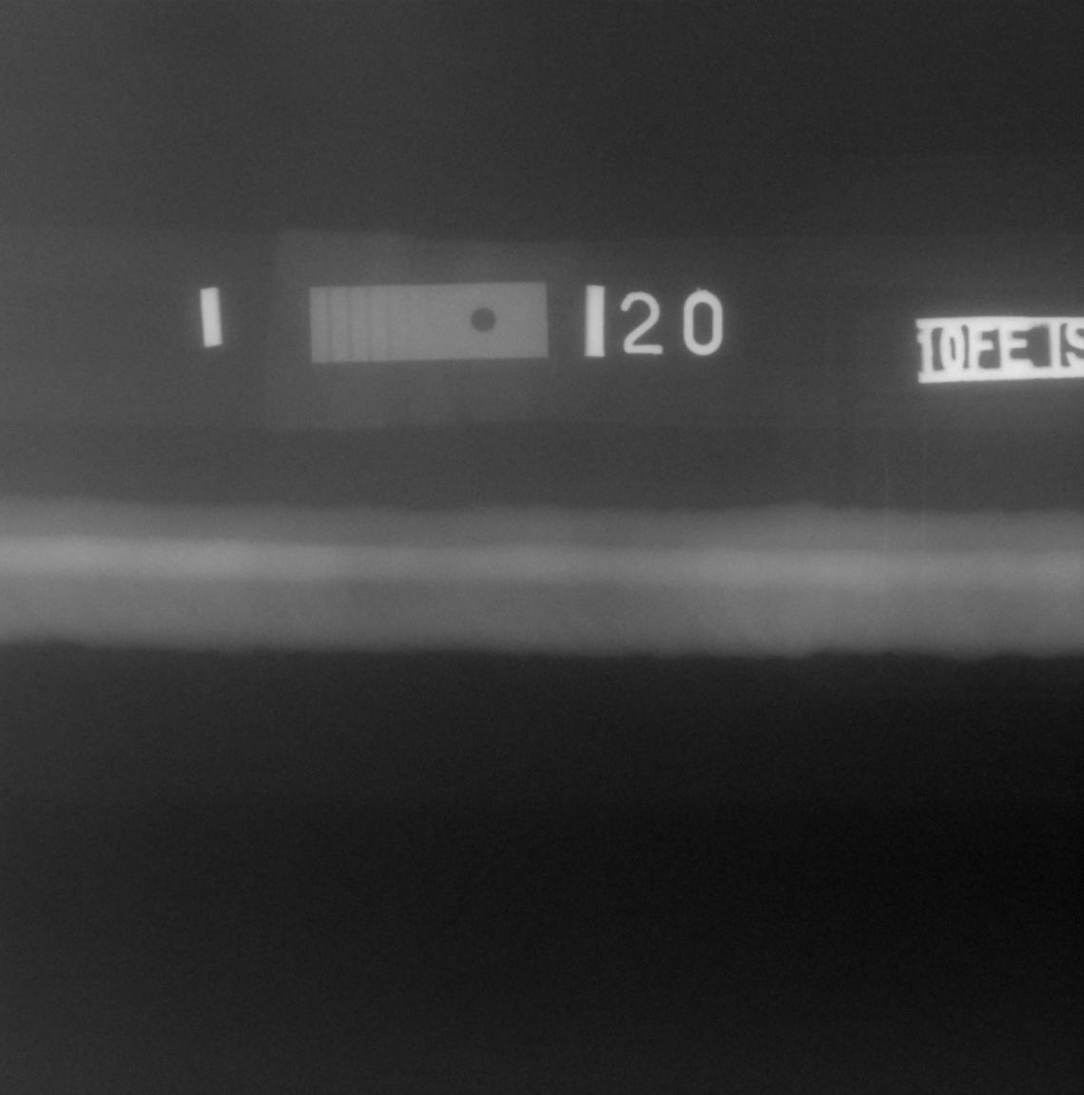Reference Standard 1: (310, 281, 549, 363)
